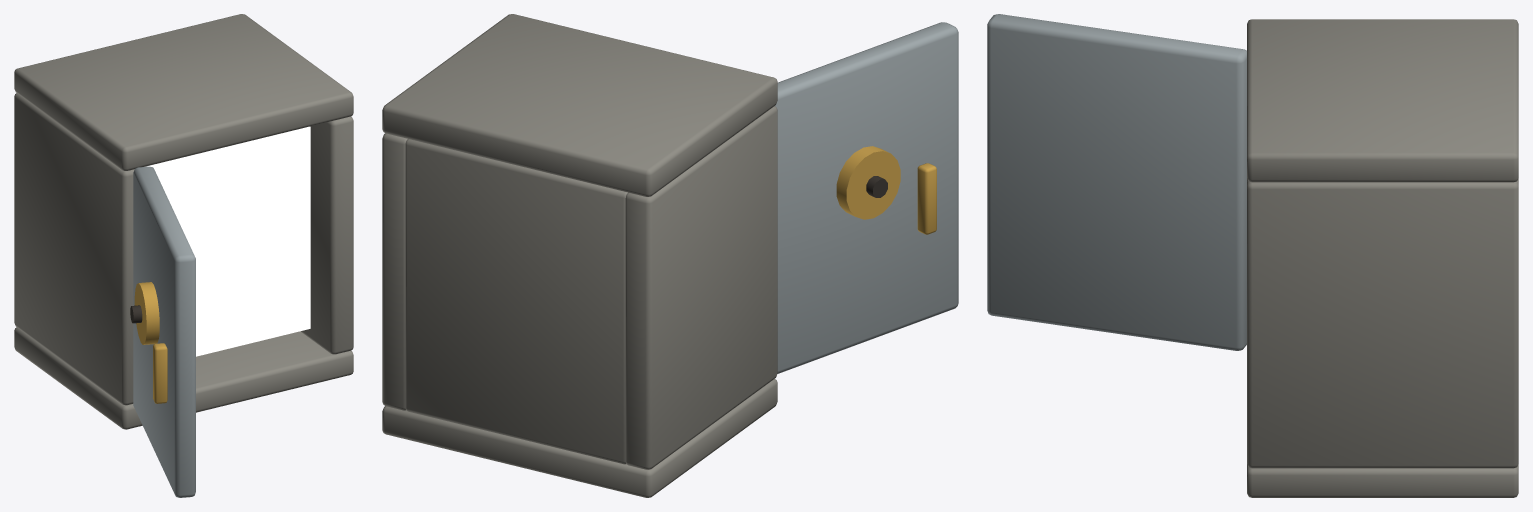
Rendered from safe.glb.
3 renders of one model, left to right at view 1: azimuth 30°, elevation 25°; view 2: azimuth 150°, elevation 25°; view 3: azimuth 270°, elevation 25°, orthographic. The views are drawn at different scales.
Visible parts, largest first — view 1: body, door; view 2: body, door; view 3: body, door.
Part boxes in pixels (left/top/right/bottom): body: left=14, top=14, right=353, bottom=429; door: left=130, top=166, right=195, bottom=497; body: left=382, top=14, right=777, bottom=497; door: left=775, top=22, right=958, bottom=373; body: left=1247, top=19, right=1518, bottom=497; door: left=987, top=14, right=1246, bottom=350.
Bounding box in the file's own units: 0.7343 × 0.7 × 0.9774.
